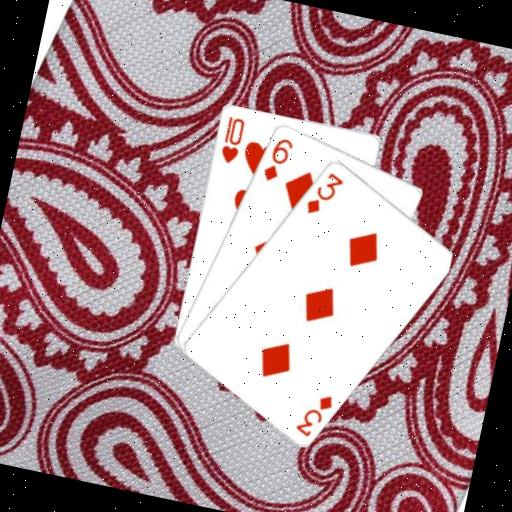10H: (215, 112, 247, 166)
3D: (301, 165, 347, 221), (290, 386, 336, 442)
6D: (258, 131, 295, 185)
